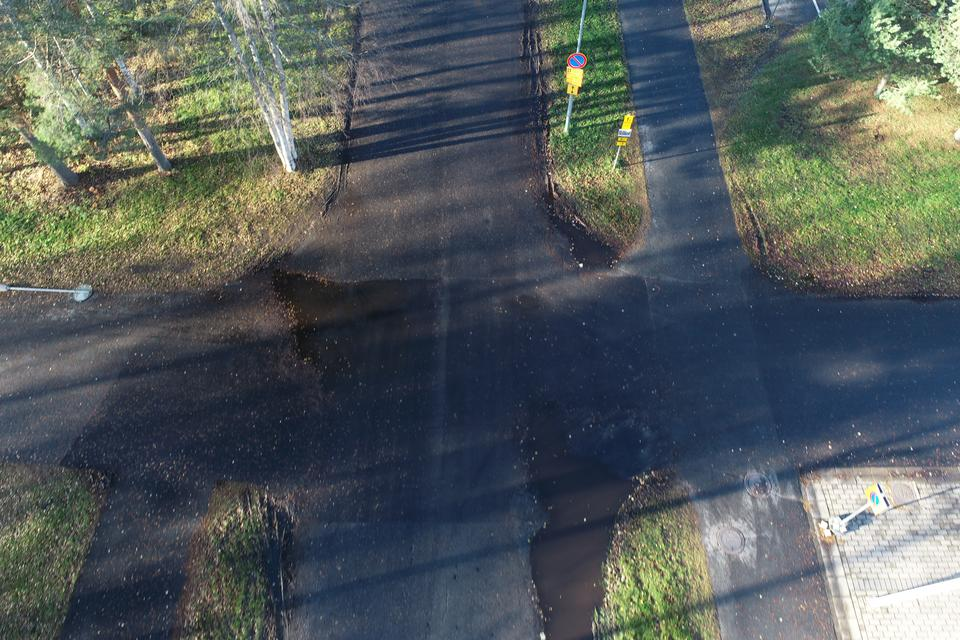intersection: (33, 212, 870, 547)
